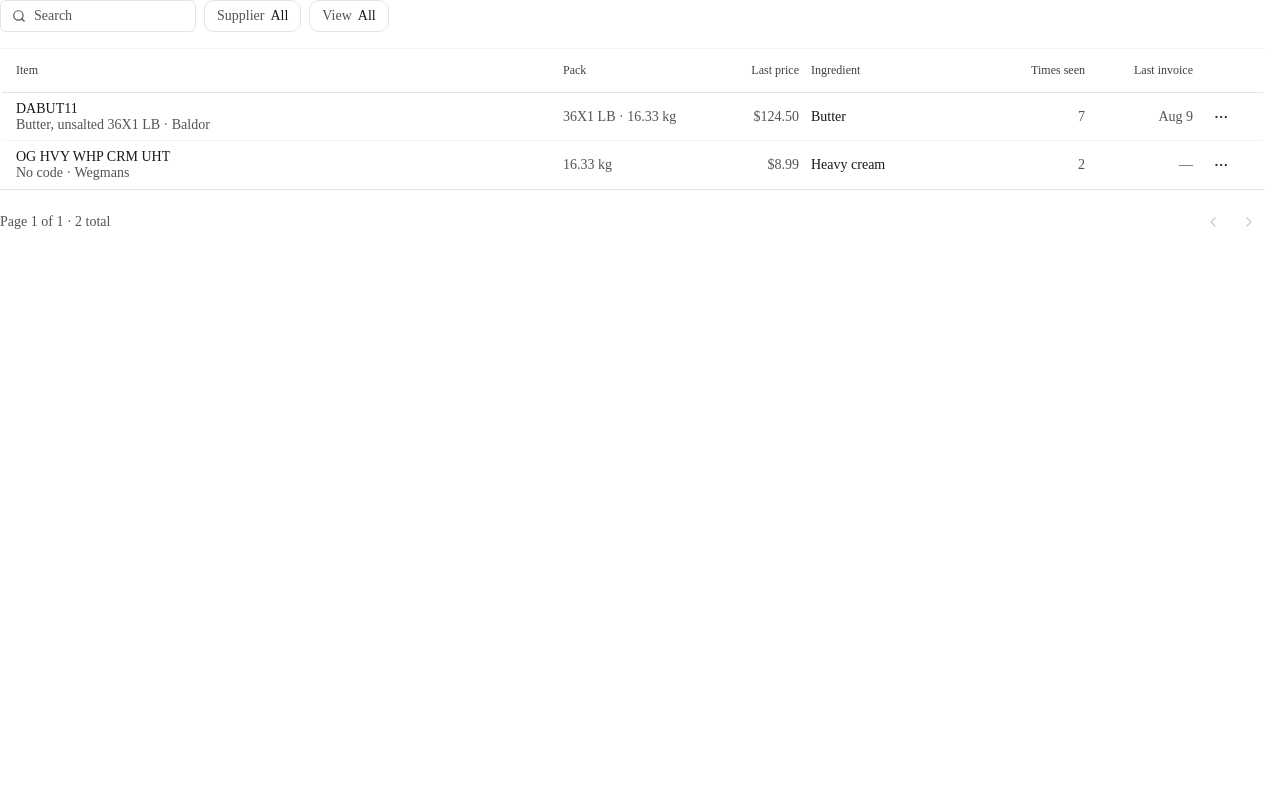
Scenario: the supplier items table › says why an edit did not land
Click the button named "Actions for DABUT11": (1221, 116) [1205, 100, 1237, 132]
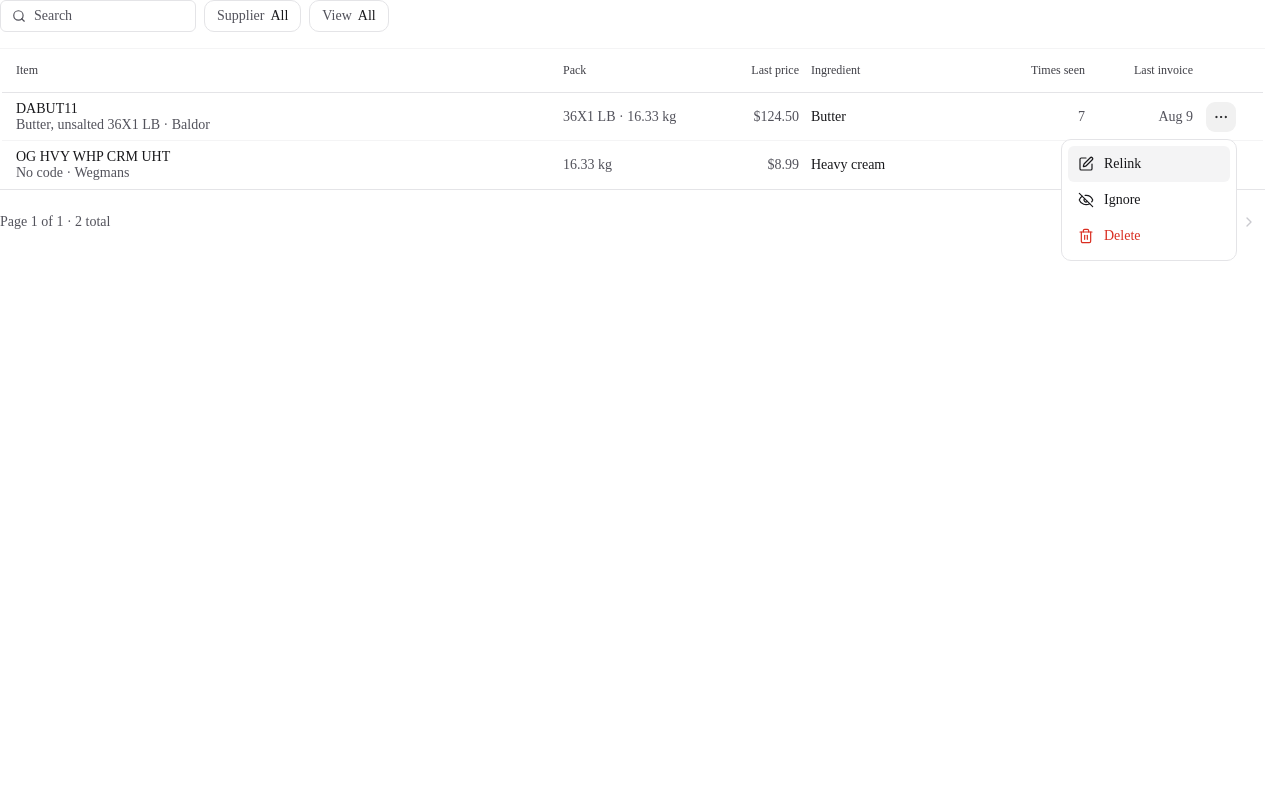
Click the menu item "Ignore": (1109, 200) [1078, 192, 1140, 208]
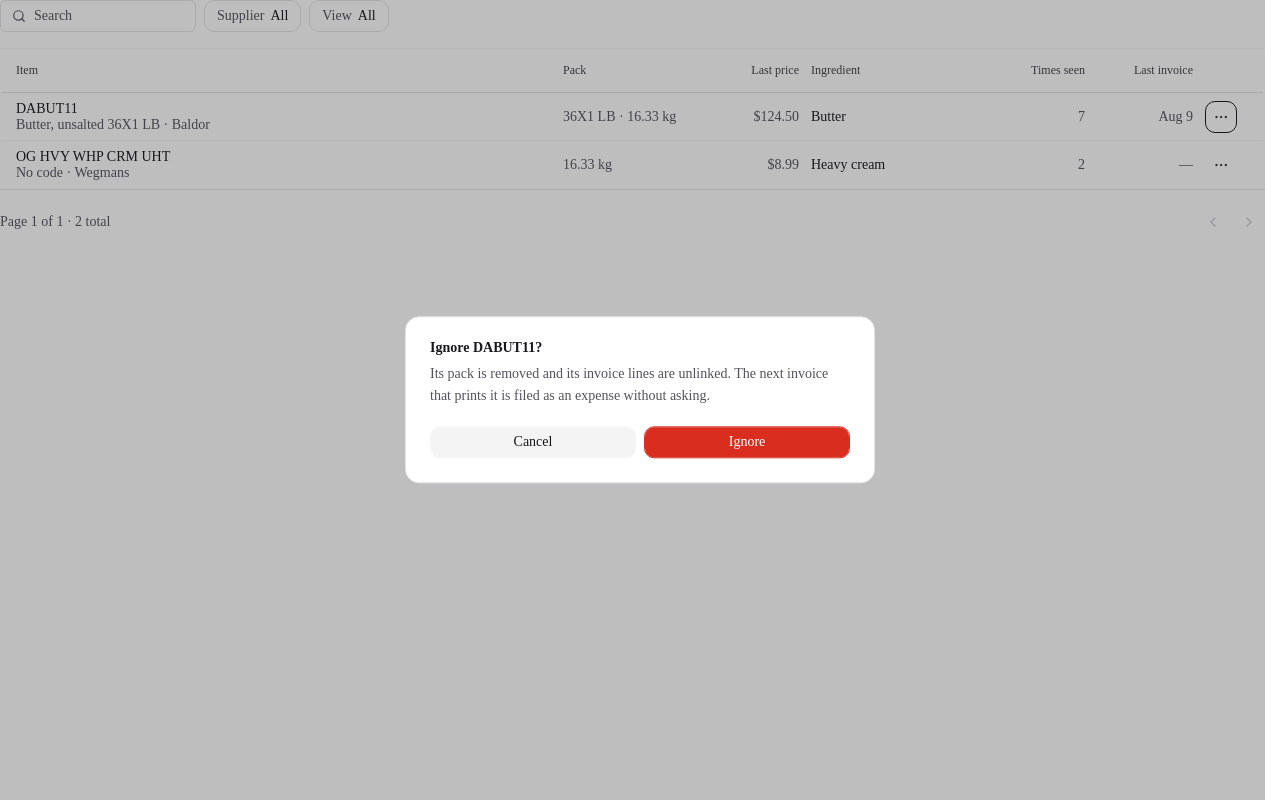
Click the button "Ignore": (747, 443) [644, 427, 850, 459]
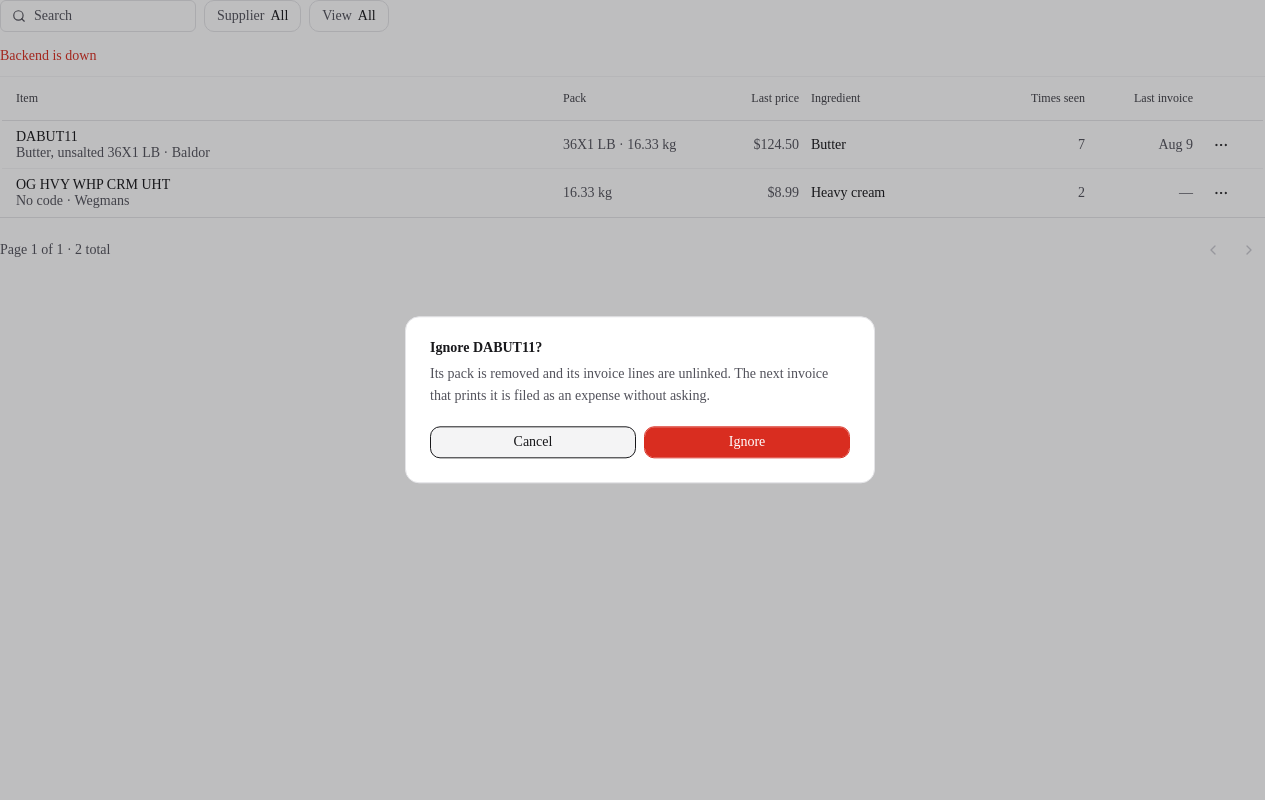
Expected: the message reads "Backend is down", [0, 48, 96, 63]
